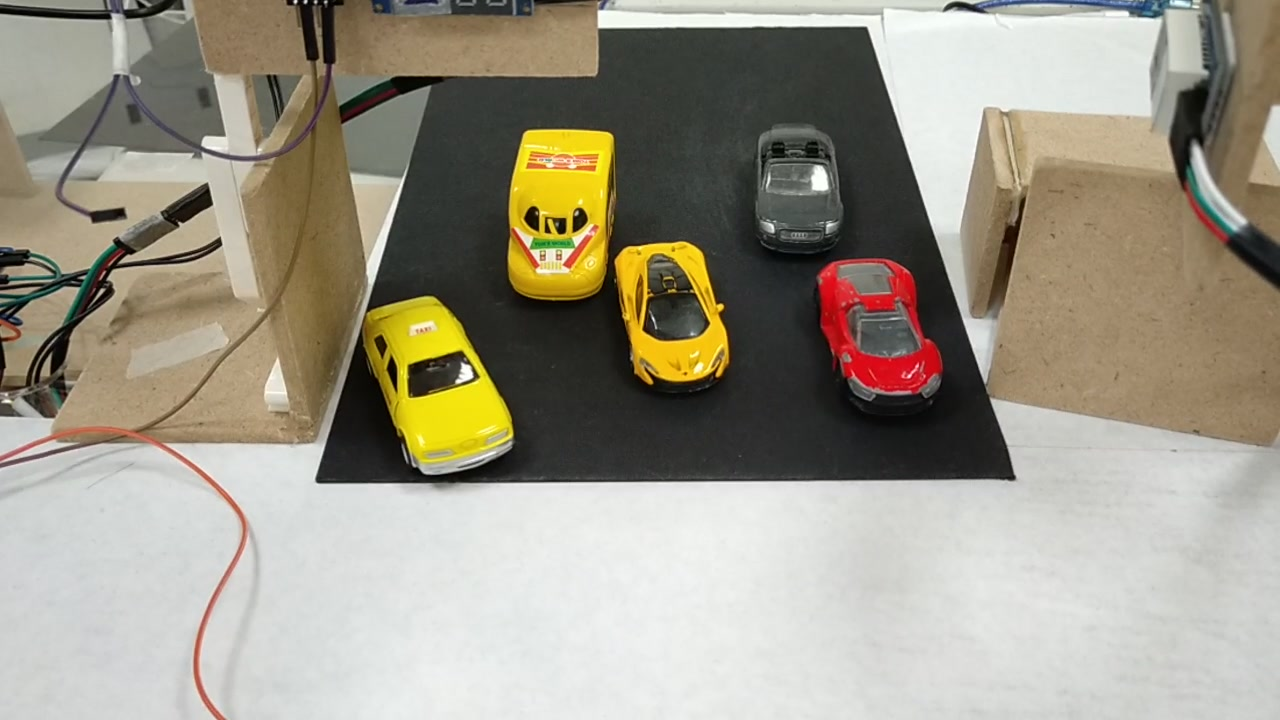car: (356, 303, 512, 479), (809, 261, 941, 409), (611, 246, 729, 388), (748, 125, 841, 242)
